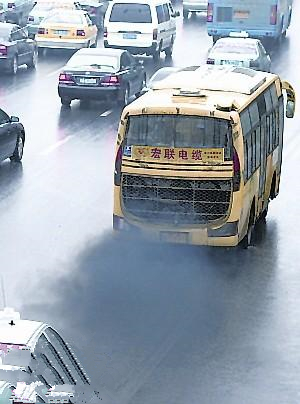smoke: (63, 223, 224, 347)
